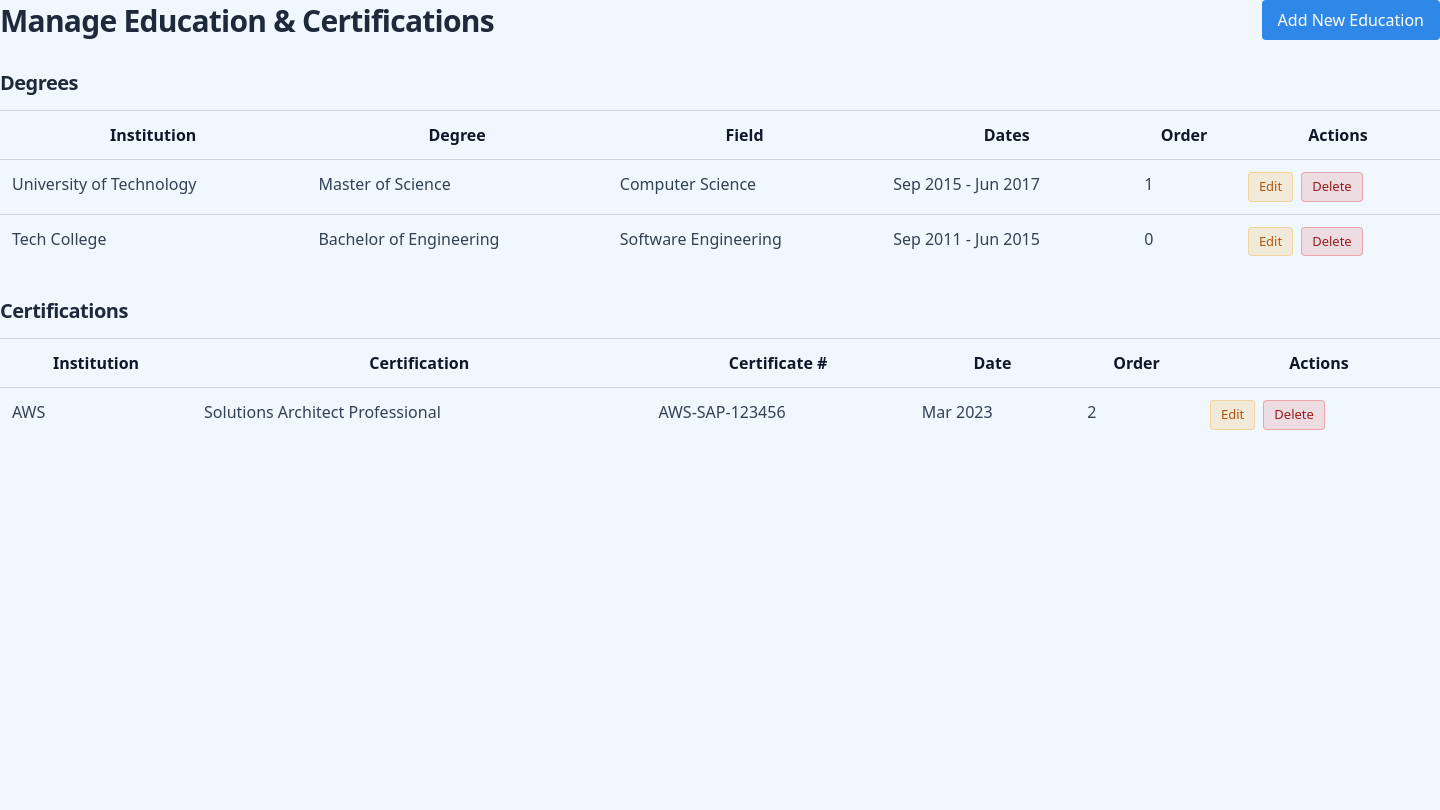
Test case: AdminEducation › Edit Form › should show modal with populated data when edit button is clicked
This screenshot has width=1440, height=810.
Click first edit button
Click the button with class "btn-warning" in the row of "University of Technology" at {"x": 1271, "y": 187}, box left=1248, top=172, right=1293, bottom=202
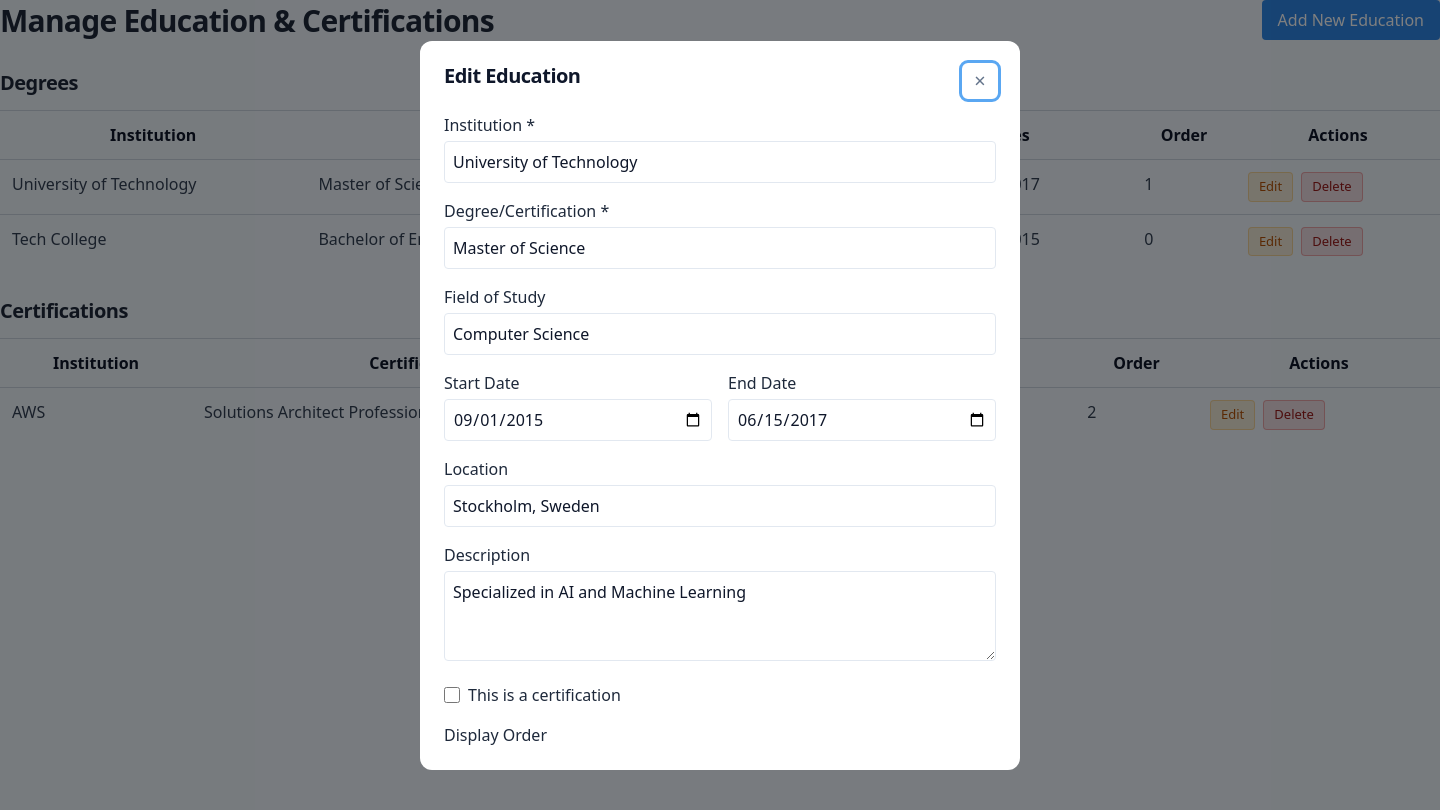
Result: the dialog with class "modal-overlay" is shown
Result: the heading "Edit Education" is shown at left=444, top=64, right=580, bottom=86
